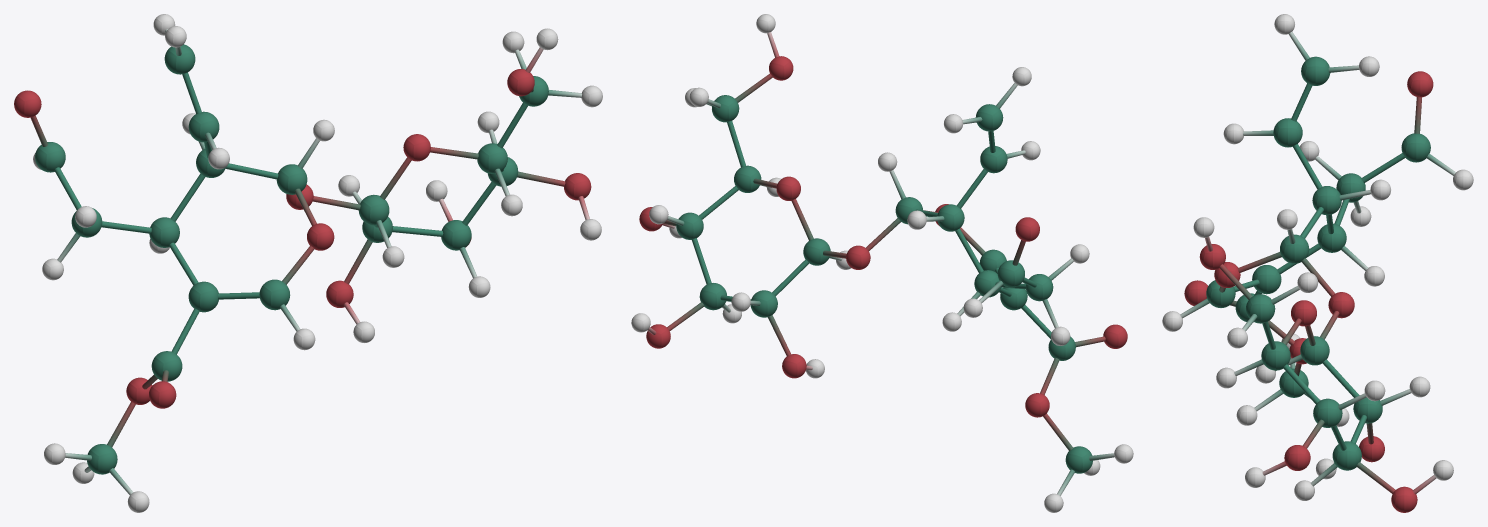
File: Secologanin.fbx
3 renders of one model, left to right at view 1: azimuth 30°, elevation 25°; view 2: azimuth 150°, elevation 25°; view 3: azimuth 270°, elevation 25°, orthographic. The views are drawn at different scales.
Visible parts, largest first — view 1: curMeshHyperballExportedMesh; view 2: curMeshHyperballExportedMesh; view 3: curMeshHyperballExportedMesh.
Part boxes in pixels (<box>): curMeshHyperballExportedMesh: <box>14,14,602,512</box>; curMeshHyperballExportedMesh: <box>631,14,1133,512</box>; curMeshHyperballExportedMesh: <box>1162,14,1473,512</box>.
Size of the model in its own units: 11.62 by 9.36 by 5.99.
